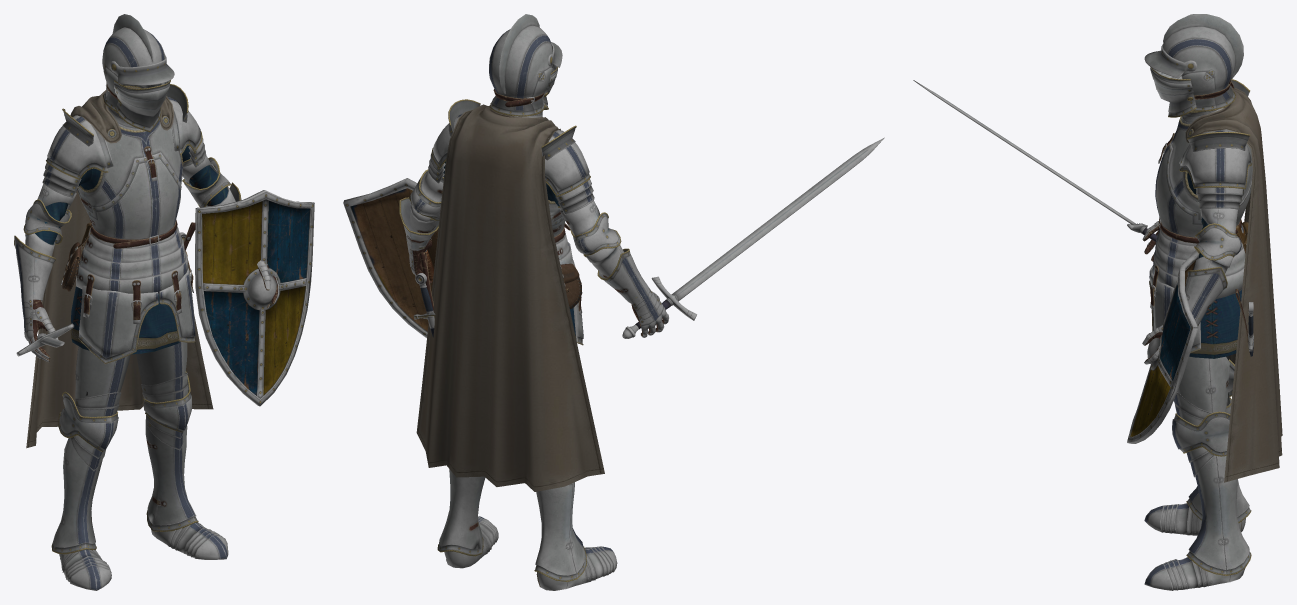
Rendered from knight.glb.
3 views of the same model, side by side, from view 1: azimuth 30°, elevation 25°; view 2: azimuth 150°, elevation 25°; view 3: azimuth 270°, elevation 25° (orthographic).
Parts seen in each view (by area): view 1: body, shield, leg-negative, cape, leg-positive, helm, upper-negative, hand-negative, upper-positive, forearm-negative, forearm-positive, sword (+1 smaller); view 2: cape, shield, helm, leg-negative, upper-negative, leg-positive, sword, hand-negative, body, forearm-negative, upper-positive, forearm-positive (+1 smaller); view 3: cape, leg-positive, body, helm, shield, upper-positive, leg-negative, hand-positive, forearm-positive, sword.
Boxes of the visible parts, x1,y1,x2,y2 form: body: (61, 106, 195, 395); shield: (195, 190, 314, 406); leg-negative: (51, 346, 130, 590); cape: (26, 86, 213, 448); leg-positive: (136, 341, 228, 559); helm: (102, 14, 174, 132); upper-negative: (35, 108, 113, 239); hand-negative: (14, 235, 58, 361); upper-positive: (166, 84, 218, 188); forearm-negative: (23, 199, 71, 256); forearm-positive: (182, 157, 235, 207); sword: (16, 323, 74, 356); cape: (416, 104, 604, 491); shield: (343, 178, 438, 337); helm: (489, 14, 562, 116); leg-negative: (534, 482, 617, 590); upper-negative: (541, 125, 608, 235); leg-positive: (437, 469, 498, 568); sword: (622, 137, 884, 338); hand-negative: (597, 248, 668, 337); body: (514, 111, 583, 345); forearm-negative: (570, 212, 636, 299); upper-positive: (420, 99, 480, 202); forearm-positive: (407, 169, 441, 248); cape: (1185, 88, 1282, 482); leg-positive: (1144, 356, 1251, 590); body: (1149, 108, 1252, 405); helm: (1144, 14, 1243, 117); shield: (1127, 250, 1199, 443); upper-positive: (1179, 129, 1251, 241); leg-negative: (1144, 359, 1251, 535); hand-positive: (1142, 267, 1227, 368); forearm-positive: (1194, 223, 1241, 318); sword: (913, 80, 1156, 241).
Size of the model in its own units: 1.63 by 2.13 by 1.32.
Materials: 12 (12 with a texture image).
